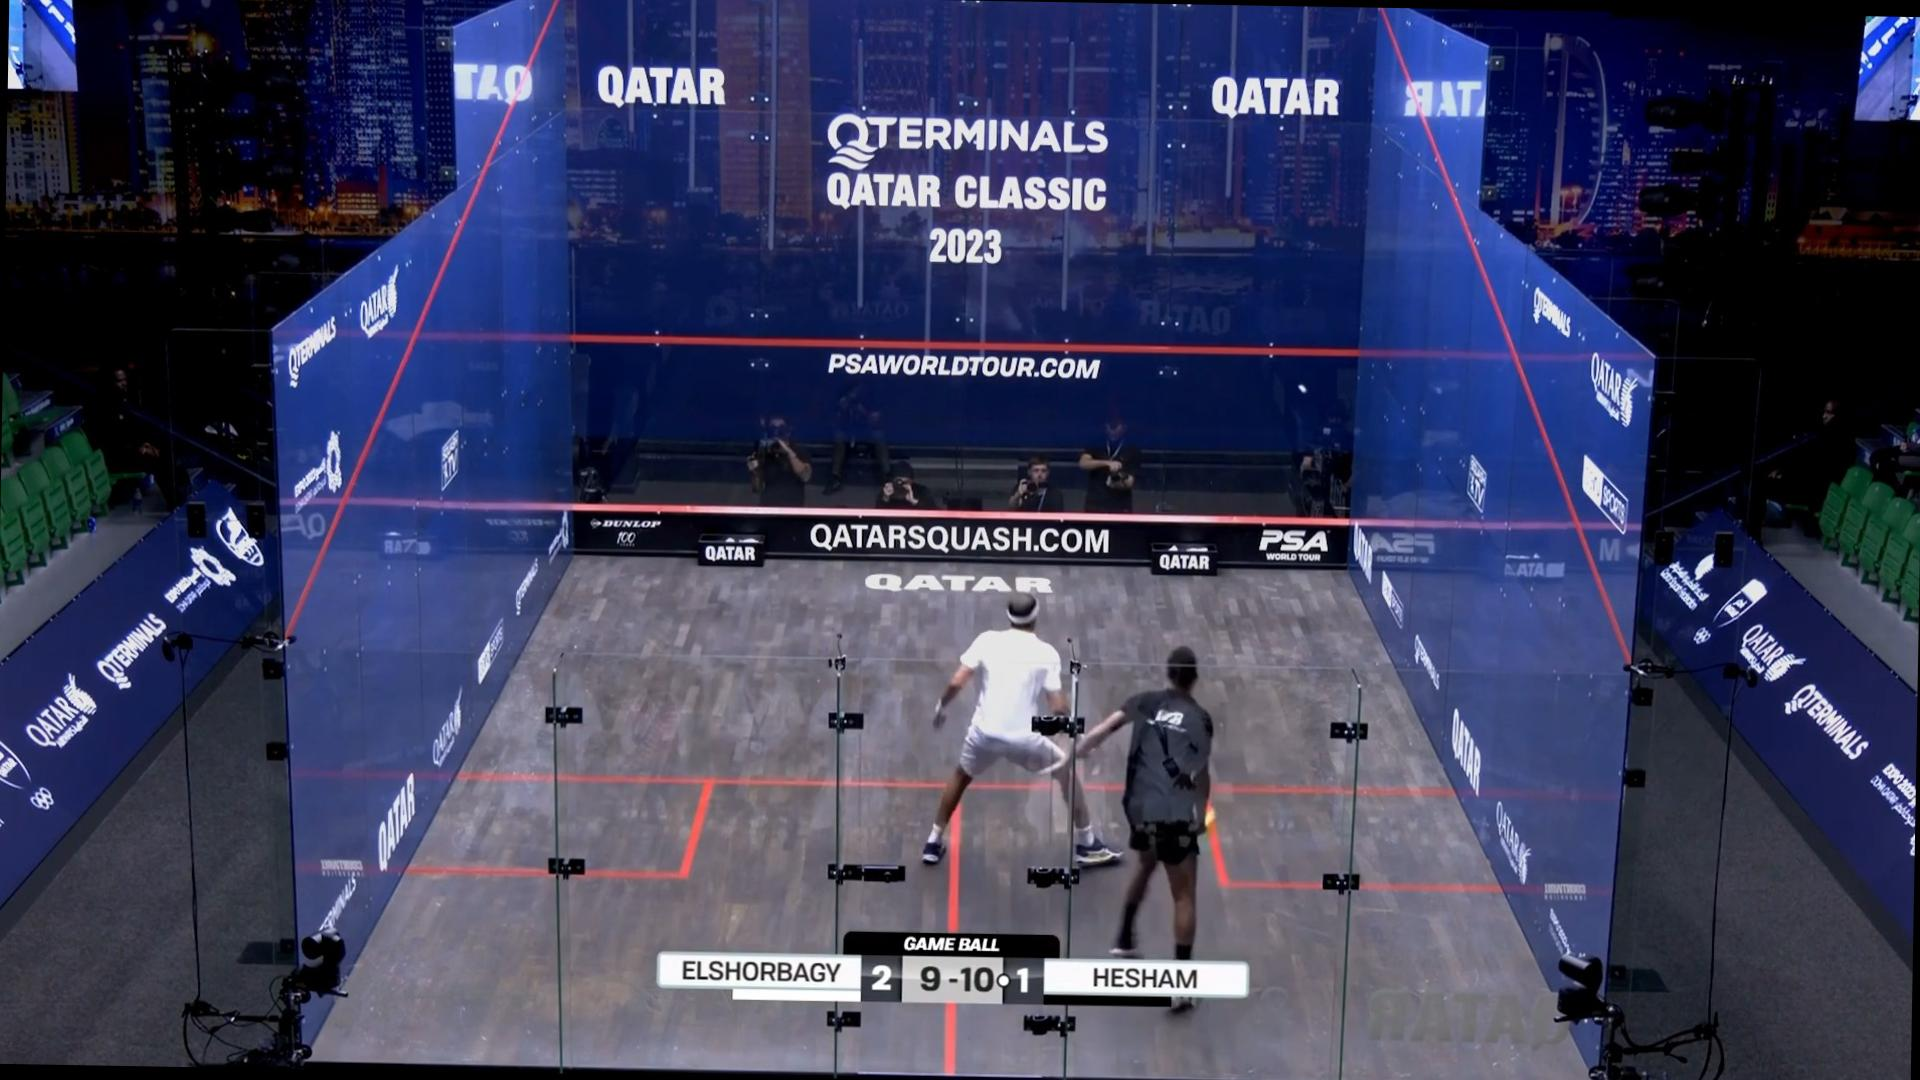Squash-Ball: (1284, 371, 1320, 407)
